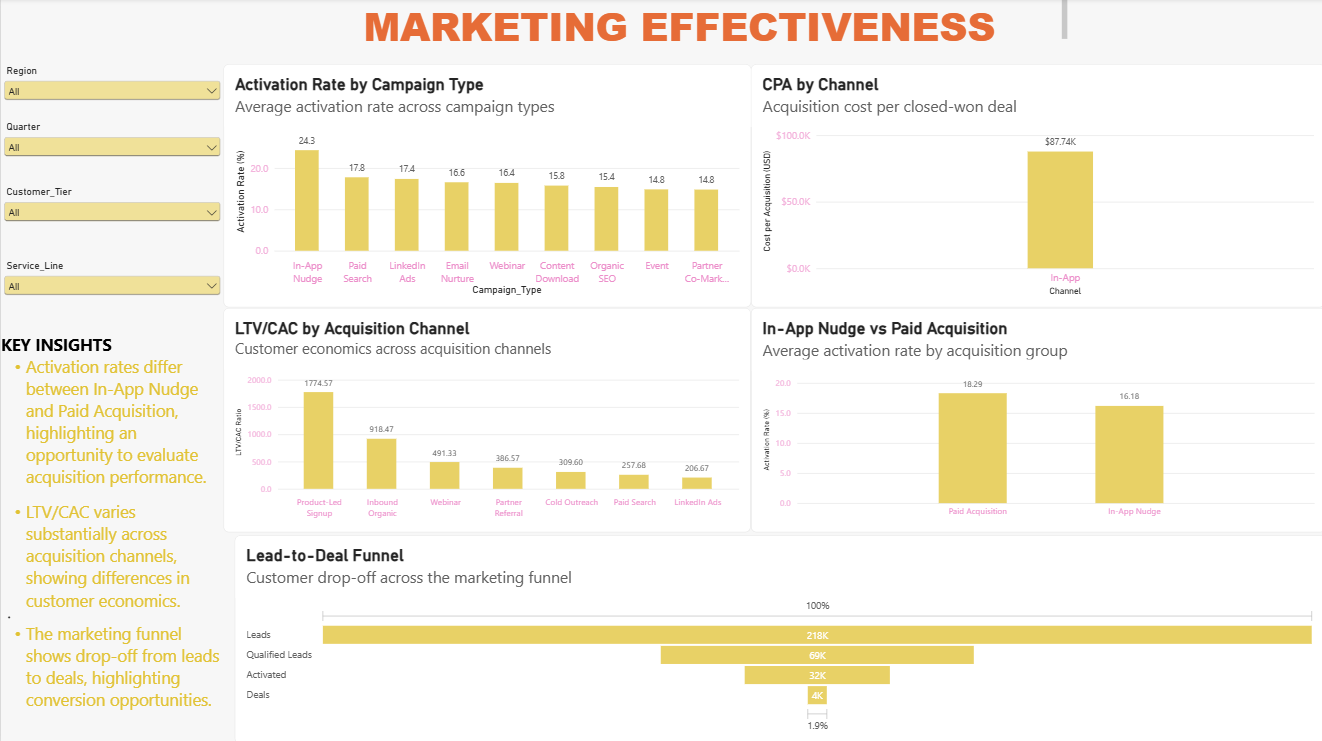

The page's visual inventory and layout, read from the dashboard file:
{"tool":"powerbi","page":{"name":"MARKETING EFFECTIVENESS","canvas":[1920,1080],"ordinal":1},"visuals":[{"type":"clusteredColumnChart","title":"Activation Rate by Campaign Type","fields":{"Y":["Avg(Marketing_Campaigns.Activation_Rate_Pct)"],"Category":["Marketing_Campaigns.Campaign_Type"]},"box":[322,96,764,352],"z":0},{"type":"clusteredColumnChart","title":"CPA by Channel","fields":{"Category":["Marketing_Campaigns.Channel"],"Y":["Measure.CPA"]},"box":[1086,96,832,352],"z":1000},{"type":"clusteredColumnChart","title":"LTV/CAC by Acquisition Channel","fields":{"Category":["SaaS_Financials.Acquisition_Channel"],"Y":["Measure.Average LTV CAC"]},"box":[322.4,448.8,763.5,325],"z":2000},{"type":"clusteredColumnChart","title":"In-App Nudge vs Paid Acquisition","fields":{"Y":["Avg(Marketing_Campaigns.Activation_Rate_Pct)"],"Category":["Marketing_Campaigns.Acquisition Group"]},"box":[1086.4,449.4,833.3,324.7],"z":3000},{"type":"funnel","title":"Lead-to-Deal Funnel","fields":{"Category":["Marketing Funnel.Stage"],"Y":["Measure.Marketing Funnel Value"]},"box":[339.2,778.4,1581.4,301.7],"z":4000},{"type":"slicer","fields":{"Values":["Sales_Pipeline.Region"]},"box":[0,95.7,322.7,55.7],"z":6000},{"type":"slicer","fields":{"Values":["DateTable.Quarter"]},"box":[0,177.1,322.7,54.5],"z":7000},{"type":"slicer","fields":{"Values":["Customers.Customer_Tier"]},"box":[0,271.4,322.7,54.5],"z":8000},{"type":"slicer","fields":{"Values":["SaaS_Financials.Service_Line"]},"box":[0,378.6,322.7,53.4],"z":9000},{"type":"textbox","box":[406,0,1138,76],"z":11000},{"type":"textbox","box":[0,484.3,321.4,585.7],"z":12000}]}

Visuals, with their boxes in screenshot pixels (x1, y1, x2, y2), scaled from the page's 1920x1080 canvas onto the 1322x741 screenshot:
"Activation Rate by Campaign Type" clusteredColumnChart: bbox(222, 66, 748, 307)
"CPA by Channel" clusteredColumnChart: bbox(748, 66, 1321, 307)
"LTV/CAC by Acquisition Channel" clusteredColumnChart: bbox(222, 308, 748, 531)
"In-App Nudge vs Paid Acquisition" clusteredColumnChart: bbox(748, 308, 1321, 531)
"Lead-to-Deal Funnel" funnel: bbox(234, 534, 1321, 740)
slicer - Sales_Pipeline.Region: bbox(0, 66, 222, 104)
slicer - DateTable.Quarter: bbox(0, 122, 222, 159)
slicer - Customers.Customer_Tier: bbox(0, 186, 222, 224)
slicer - SaaS_Financials.Service_Line: bbox(0, 260, 222, 296)
textbox: bbox(280, 0, 1063, 52)
textbox: bbox(0, 332, 221, 734)
